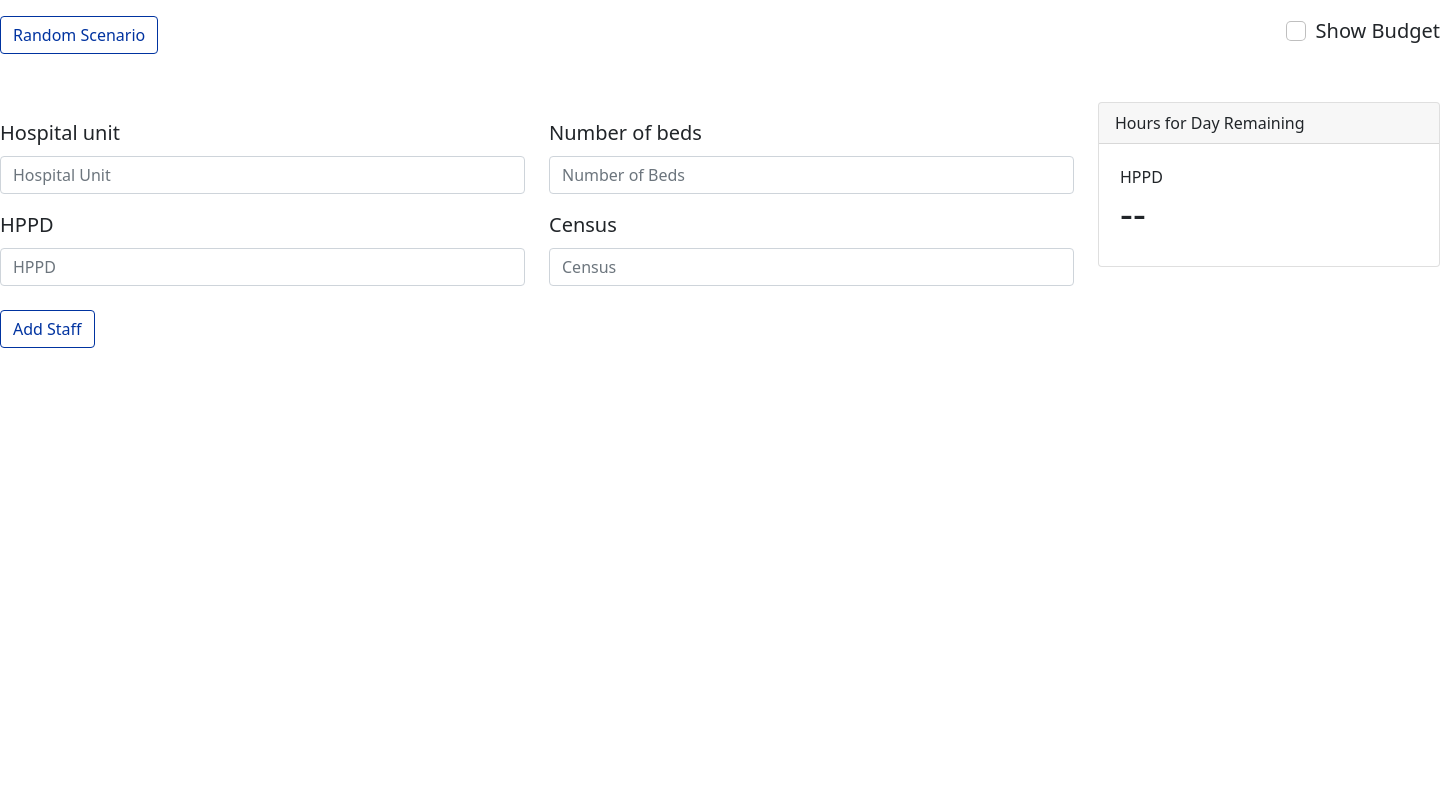
it: <StaffAdd /> › Test confirm add new staff button
button click to get modal up
Click the button with test id "addstaff-id". click: (47, 329)
box: 0,310 -> 95,348
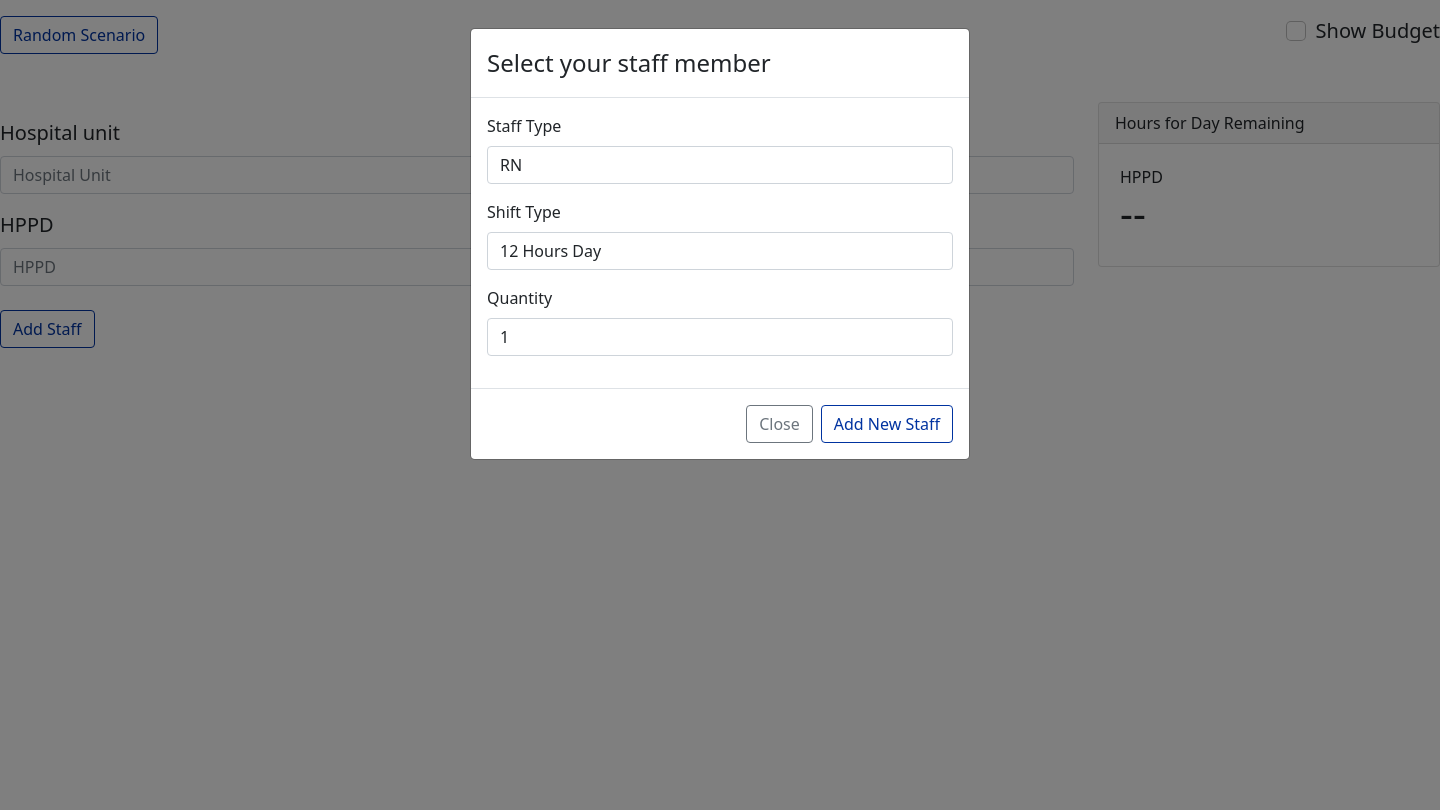
expect the element with test id "addStaffModal-id" is shown: met, box 470,28 -> 970,460
expect the button with test id "addStaffConfirm-id" is shown: met
add default staff choices
Click the button with test id "addStaffConfirm-id". click: (887, 424)
box: 821,405 -> 953,443
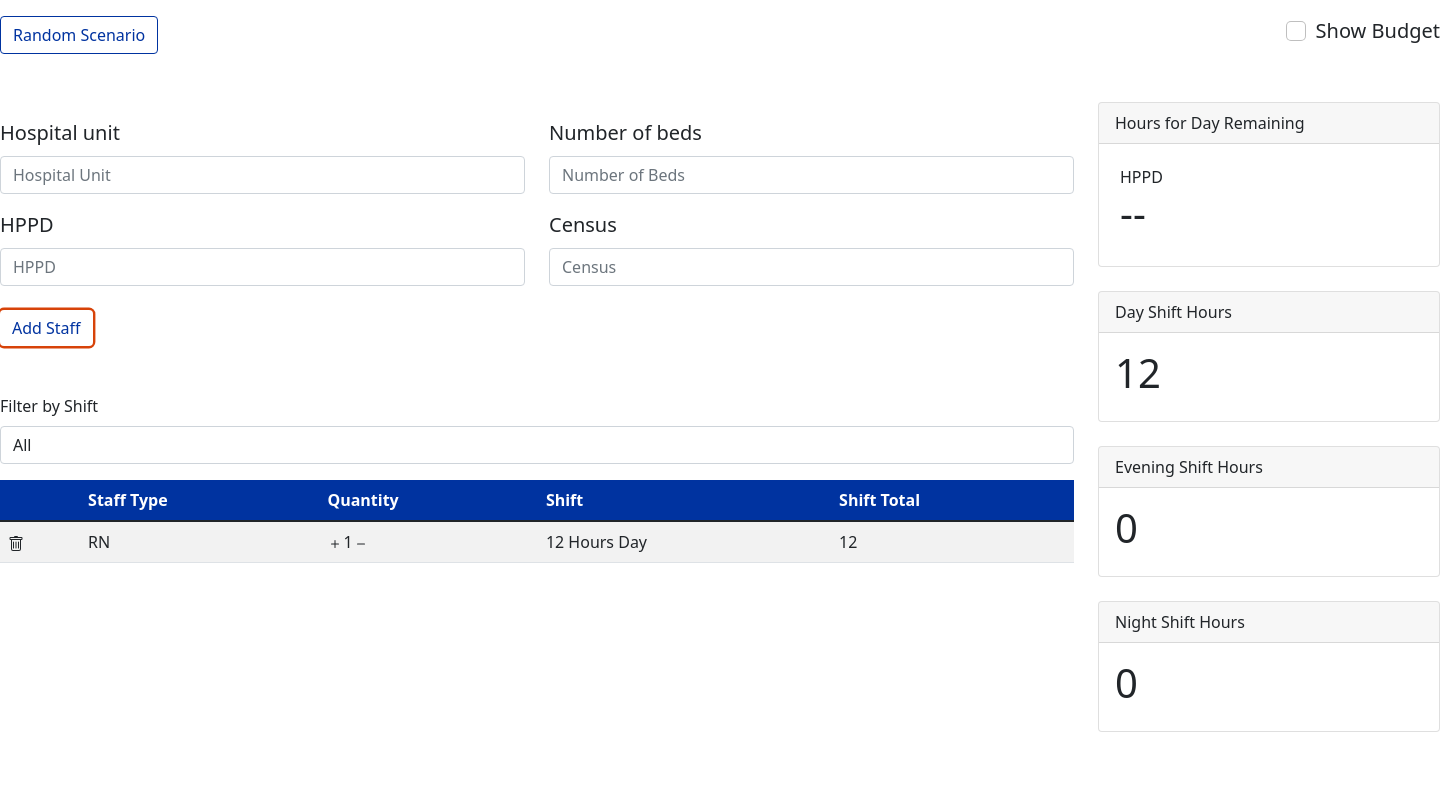
expect the element with test id "addStaffModal-id" is gone: met
expect the row with test id "staffList-id" is shown: met, box 0,480 -> 1074,521
expect the text "RN" is shown: met, box 80,521 -> 319,562
